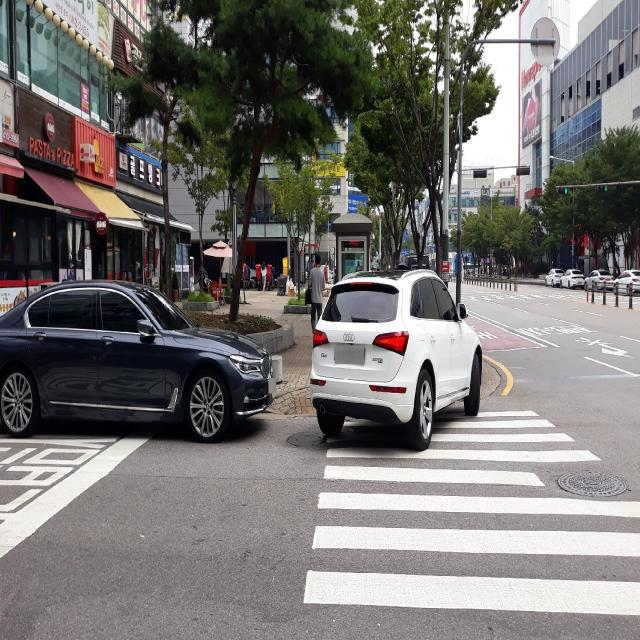횡단보도: (302, 408, 640, 619)
